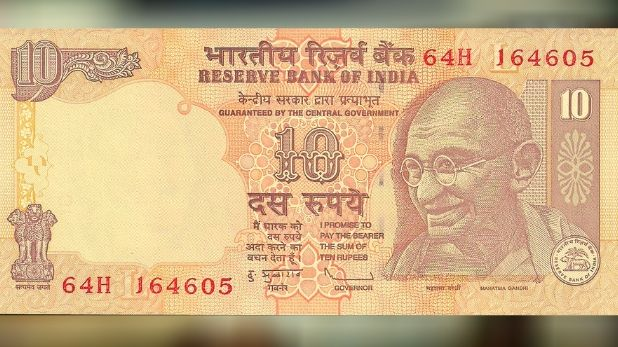ten_rupees_note: (1, 30, 618, 317)
